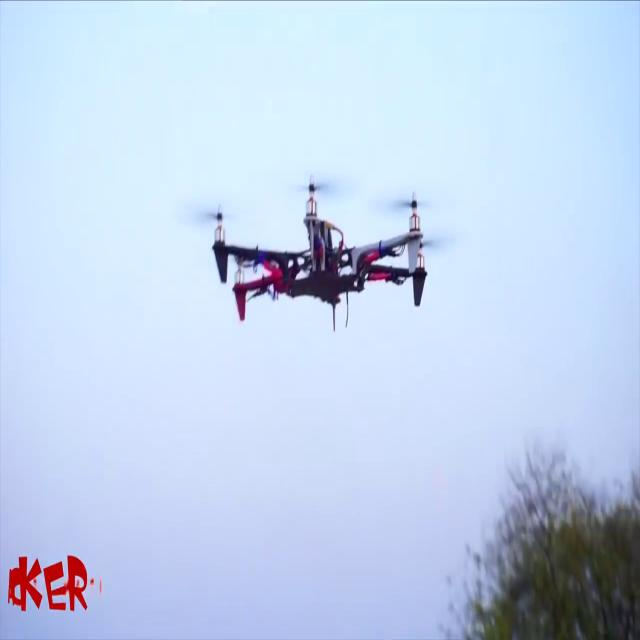drone: (192, 173, 437, 342)
